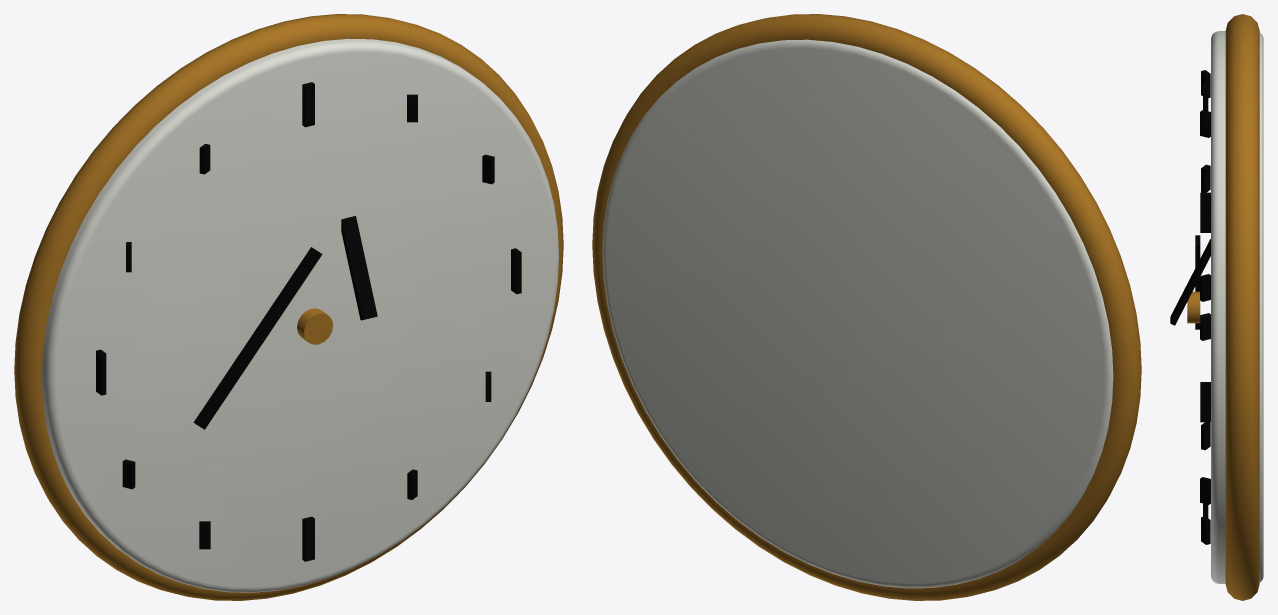
The model's file is razoredge-modern-wall-clock.glb.
The picture shows the model from 3 angles, left to right: view 1: azimuth 30°, elevation 25°; view 2: azimuth 150°, elevation 25°; view 3: azimuth 270°, elevation 25°; orthographic projection. The views are drawn at different scales.
Parts seen in each view (by area): view 1: dial, rim, hand_min, hand_hour, pin; view 2: dial, rim; view 3: rim, dial, hand_hour, tick_3, tick_9, pin, tick_2, tick_4, tick_8, tick_1, tick_5, hand_min (+4 smaller).
Boxes of the visible parts, bbox=[...] form: dial: bbox=[41, 38, 558, 592]; rim: bbox=[14, 14, 563, 600]; hand_min: bbox=[193, 247, 322, 429]; hand_hour: bbox=[341, 216, 377, 320]; pin: bbox=[297, 308, 333, 344]; dial: bbox=[602, 39, 1113, 588]; rim: bbox=[592, 14, 1141, 600]; rim: bbox=[1225, 14, 1259, 600]; dial: bbox=[1211, 31, 1263, 583]; hand_hour: bbox=[1170, 238, 1210, 325]; tick_3: bbox=[1200, 382, 1210, 422]; tick_9: bbox=[1200, 192, 1210, 232]; pin: bbox=[1187, 291, 1200, 323]; tick_2: bbox=[1200, 274, 1210, 301]; tick_4: bbox=[1200, 477, 1210, 504]; tick_8: bbox=[1200, 313, 1210, 340]; tick_1: bbox=[1201, 164, 1210, 193]; tick_5: bbox=[1201, 516, 1210, 544]; hand_min: bbox=[1195, 235, 1200, 329].
Size of the model in its own units: 0.446 by 0.446 by 0.0709.
Materials: 3 (2 with a texture image).
